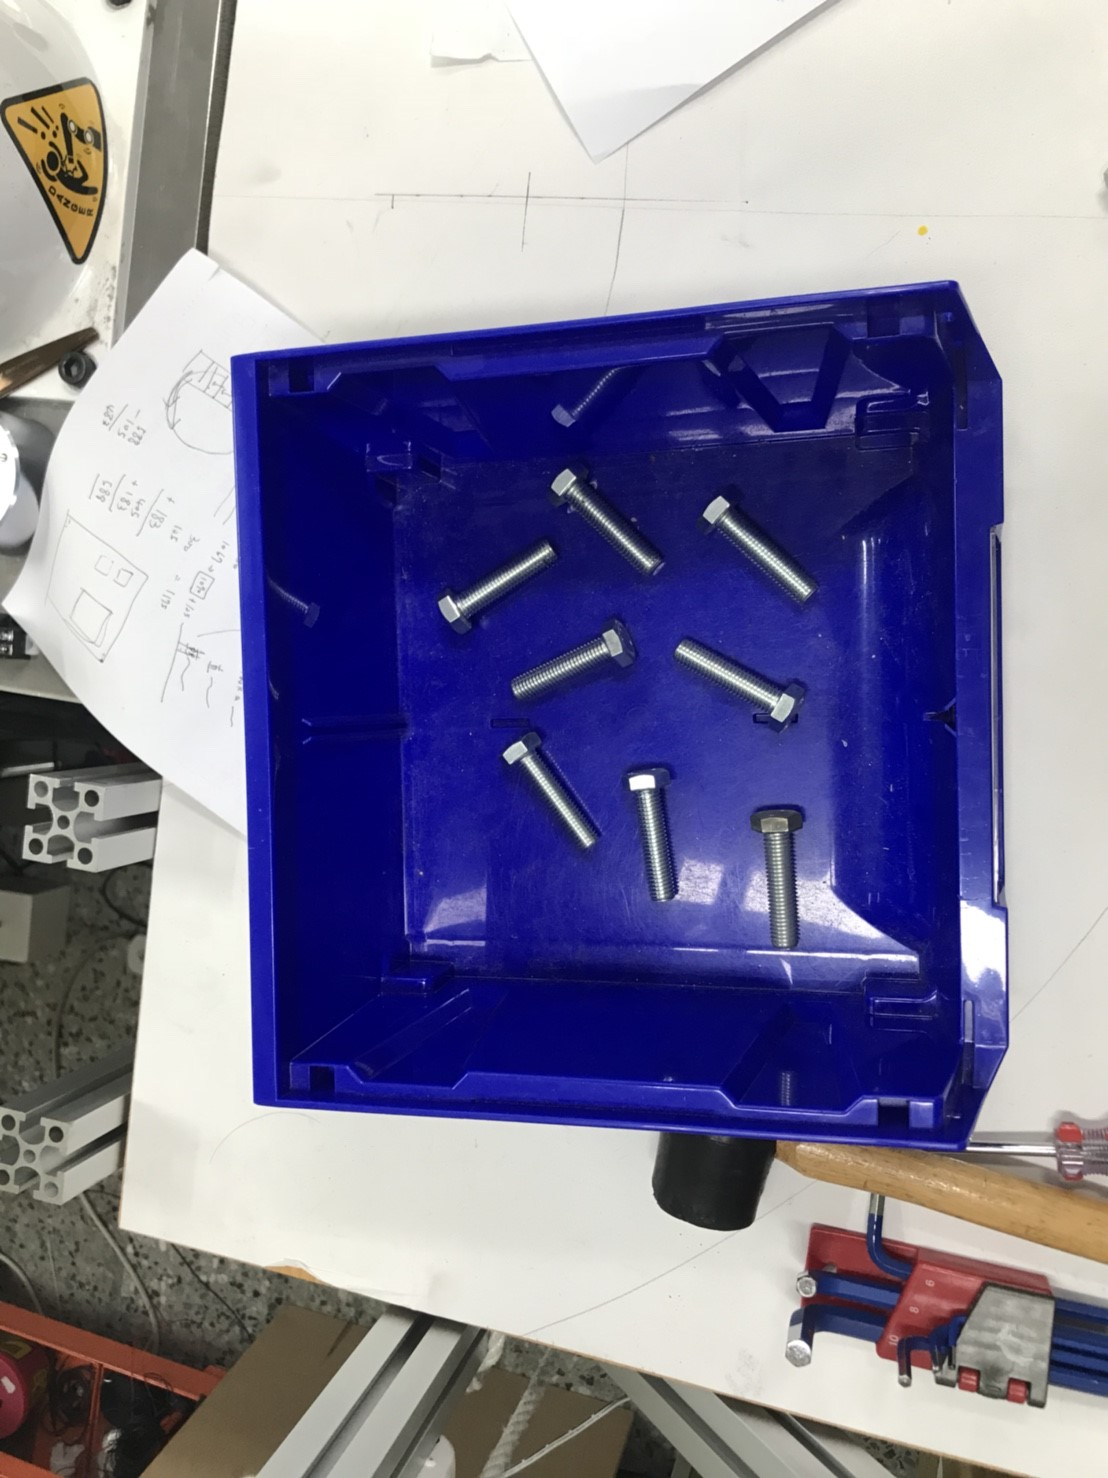screw: (493, 723, 604, 861), (696, 491, 824, 604), (549, 464, 670, 580), (436, 537, 562, 635), (668, 634, 809, 719), (626, 755, 696, 905), (750, 798, 814, 961), (509, 621, 639, 697)
